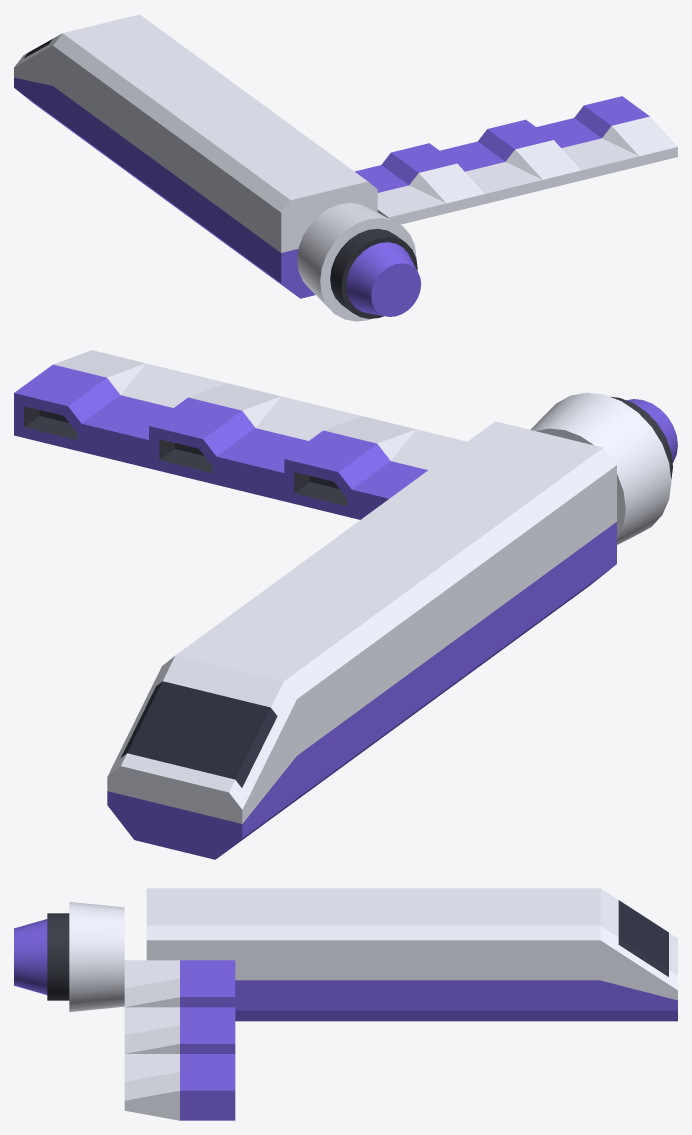
Rendered from merge_test.glb.
3 renders of one model, top to bottom at view 1: azimuth 30°, elevation 25°; view 2: azimuth 150°, elevation 25°; view 3: azimuth 270°, elevation 25°, orthographic. The views are drawn at different scales.
Visible parts, largest first — view 1: hull_body, wing_engine (×3), engine_round, hull_cockpitWide; view 2: hull_body, wing_engine (×3), hull_cockpitWide, engine_round; view 3: hull_body, wing_engine (×3), hull_cockpitWide, engine_round.
Part boxes in pixels (x1,y1,x2,y2): hull_body: (69, 26, 377, 298); wing_engine (×3): (355, 96, 677, 224); engine_round: (297, 203, 421, 321); hull_cockpitWide: (14, 14, 155, 141); hull_body: (199, 421, 616, 801); wing_engine (×3): (14, 350, 466, 519); hull_cockpitWide: (107, 638, 320, 859); engine_round: (530, 392, 677, 544); hull_body: (146, 888, 567, 1021); wing_engine (×3): (124, 960, 235, 1120); hull_cockpitWide: (567, 888, 677, 1021); engine_round: (14, 902, 124, 1011).
Bounding box in the file's own units: 4 × 1 × 6.
